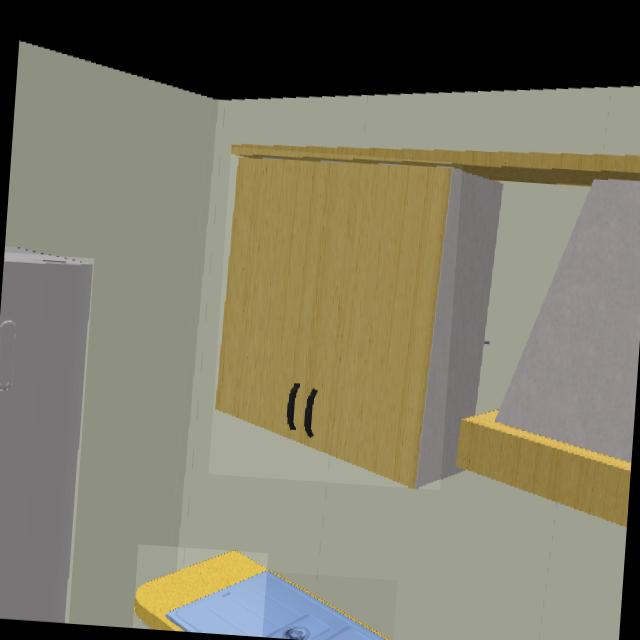cabinet: (212, 151, 455, 487)
countertop: (135, 550, 266, 631)
fridge: (0, 253, 93, 622)
sink: (164, 571, 382, 640)
